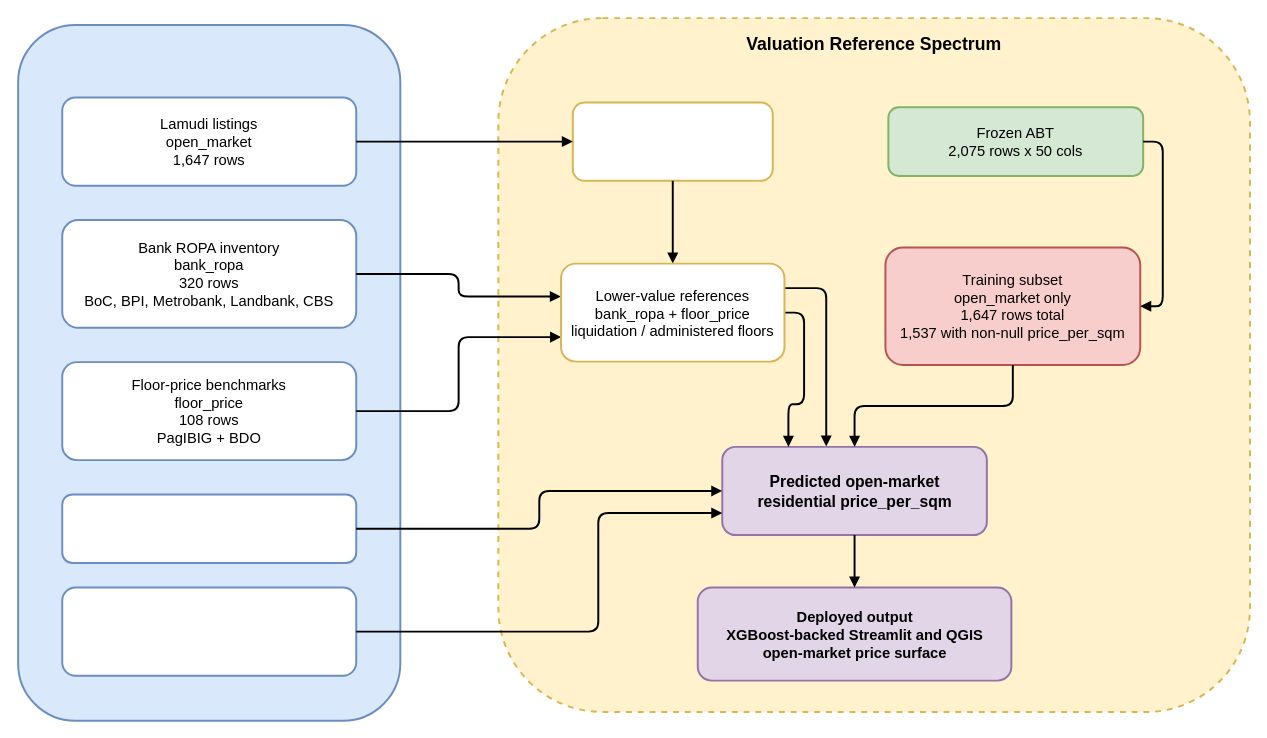
The diagram is 1267 pixels wide and 738 high, and some of its shapes have lost their labels. The shapes that lost their labels are listed below. From the top down, each one's box as (x1, y1, x2, y2) in pixels, then its label:
(571, 101, 773, 181): Upper market signal open-market asking prices
(17, 24, 401, 721): Observed Data Inputs
(61, 493, 357, 564): BIR zonal medians barangay benchmark layer
(61, 586, 357, 676): Spatial features 8 CBD distances + airport MCRAI + island flag + spatial lag
